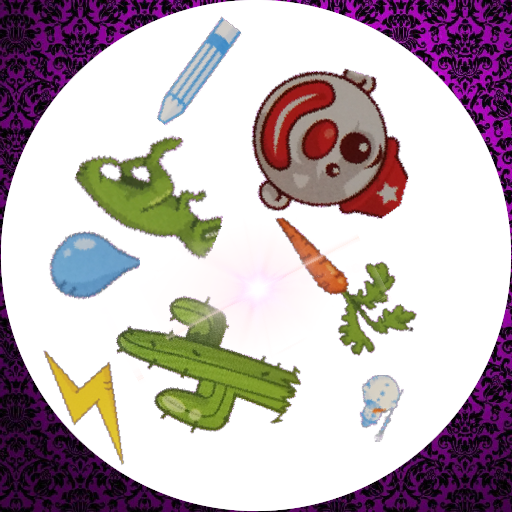cactus_icon: (109, 273, 308, 472)
carrot_icon: (259, 215, 420, 376)
clown_icon: (241, 67, 412, 238)
dino_icon: (69, 130, 223, 284)
lightning_icon: (24, 340, 155, 471)
pen_icon: (136, 13, 256, 133)
raindrop_icon: (48, 220, 140, 312)
snowman_icon: (348, 375, 415, 442)
